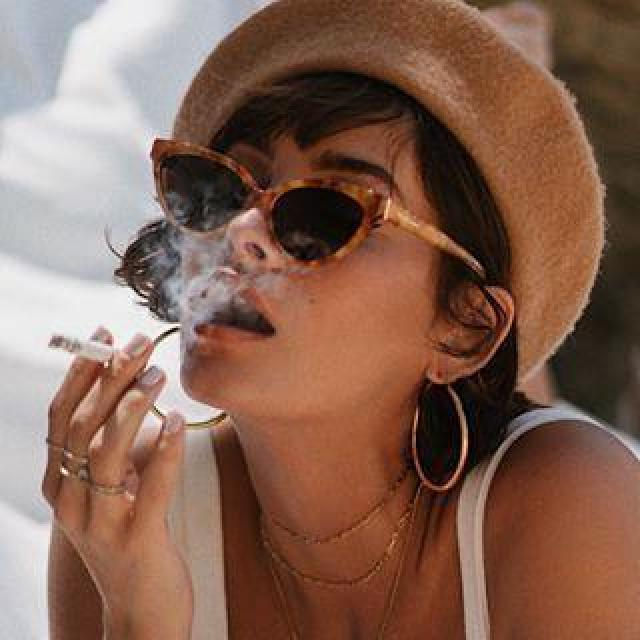cigarette: (34, 310, 132, 384)
